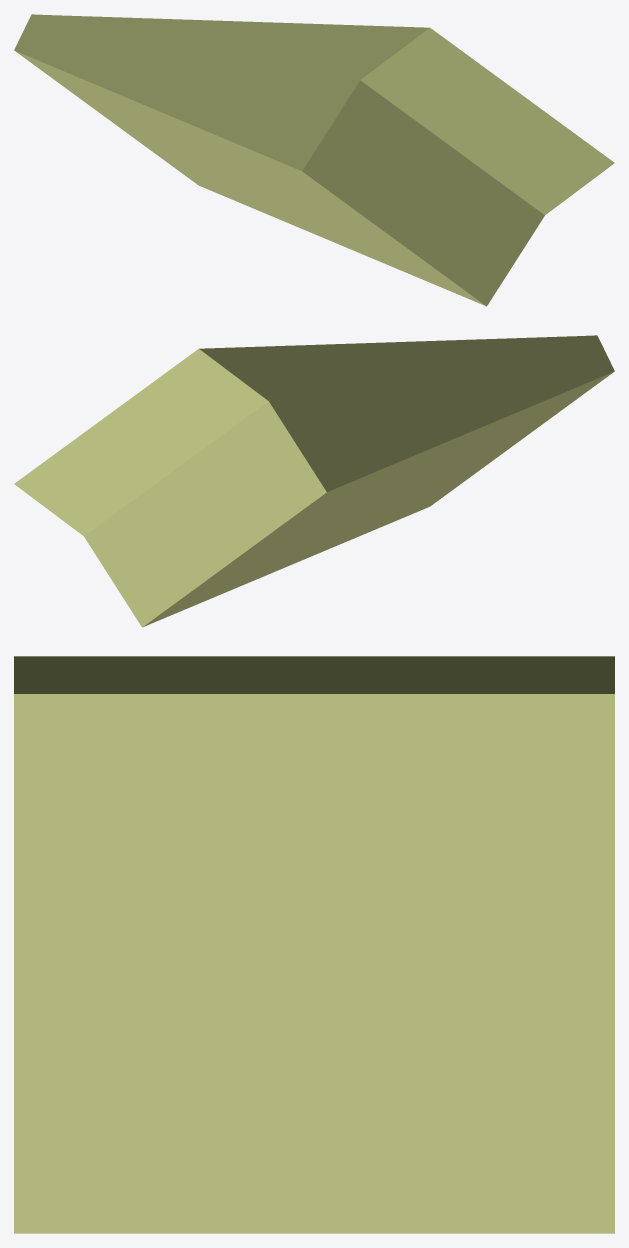
The picture shows the model from 3 angles, top to bottom: view 1: azimuth 30°, elevation 25°; view 2: azimuth 150°, elevation 25°; view 3: azimuth 270°, elevation 25°; orthographic projection. The views are drawn at different scales.
Parts seen in each view (by area): view 1: 0_1_2_0_3_3_1_3_0_2; view 2: 0_1_2_0_3_3_1_3_0_2; view 3: 0_1_2_0_3_3_1_3_0_2.
Part boxes in pixels (left/top/right/bottom): 0_1_2_0_3_3_1_3_0_2: left=14, top=14, right=614, bottom=306; 0_1_2_0_3_3_1_3_0_2: left=14, top=335, right=614, bottom=627; 0_1_2_0_3_3_1_3_0_2: left=14, top=656, right=614, bottom=1233.
Size of the model in its own units: 11.7 by 5.99 by 9.
